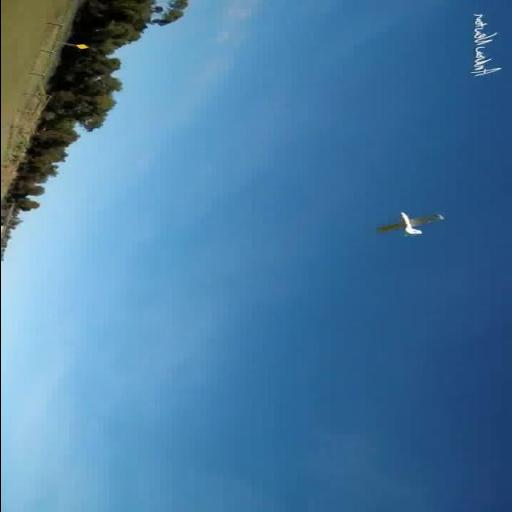uav: (358, 190, 450, 252)
